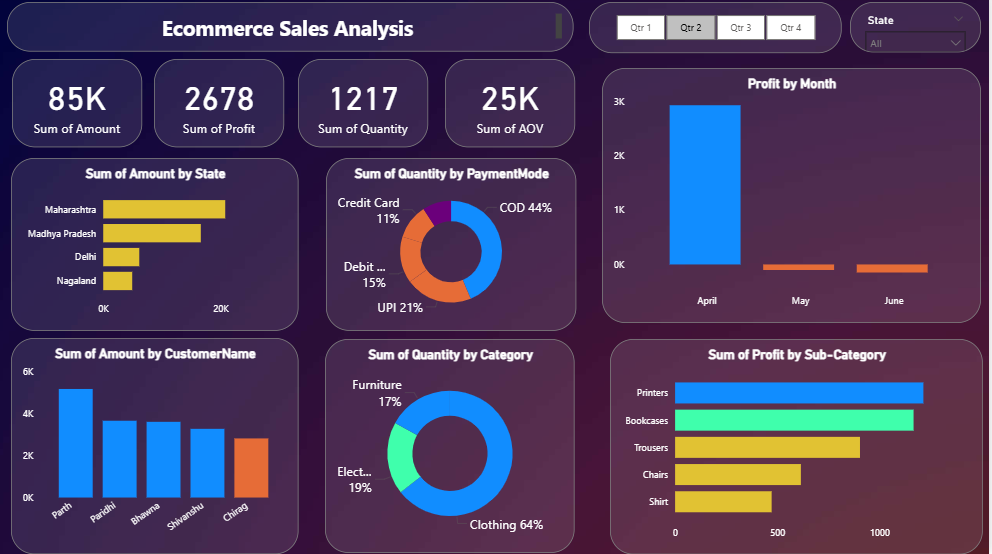

The dashboard page shown, as its layout file describes it:
{"tool":"powerbi","page":{"name":"Page 1","canvas":[1280,720],"ordinal":0},"visuals":[{"type":"textbox","box":[12.3,7.1,730.7,63.8],"z":0},{"type":"columnChart","title":"Profit by Month","fields":{"Category":["Orders.Order Date.Variation.Date Hierarchy.Month"],"Y":["Details.Profit"]},"box":[780,92.9,488.6,328.6],"z":1000},{"type":"barChart","fields":{"Category":["Details.Sub-Category"],"Y":["Details.Profit"]},"box":[790.8,442.4,481.4,277.6],"z":2000},{"type":"donutChart","fields":{"Category":["Details.Category"],"Y":["Details.Quantity"]},"box":[423.6,442.4,322.4,276.1],"z":3000},{"type":"donutChart","fields":{"Y":["Details.Quantity"],"Category":["Details.PaymentMode"]},"box":[424.3,208.6,322.9,222.9],"z":4000},{"type":"card","fields":{"Values":["Details.Amount"]},"box":[18.8,80.9,167.7,114.2],"z":5000},{"type":"card","fields":{"Values":["Details.Profit"]},"box":[202.4,80.9,167.7,114.2],"z":6000},{"type":"card","fields":{"Values":["Details.Quantity"]},"box":[388.9,80.9,167.7,114.2],"z":7000},{"type":"card","fields":{"Values":["Details.AOV"]},"box":[578.3,81,167.7,114.2],"z":8000},{"type":"barChart","fields":{"Category":["Orders.State"],"Y":["Details.Amount"]},"box":[18.6,208.6,371.4,222.9],"z":9000},{"type":"columnChart","fields":{"Category":["Orders.CustomerName"],"Y":["Details.Amount"]},"box":[18.5,441.8,371.2,278.8],"z":10000},{"type":"slicer","fields":{"Values":["Orders.Order Date.Variation.Date Hierarchy.Quarter"]},"box":[764.3,7.1,325.7,65.7],"z":11000},{"type":"slicer","fields":{"Values":["Orders.State"]},"box":[1100.2,7.1,169.2,65.4],"z":12000}]}

Visuals, with their boxes in screenshot pixels (x1, y1, x2, y2), scaled from the page's 1280x720 canvas onto the 992x554 screenshot:
textbox: {"x1": 10, "y1": 5, "x2": 576, "y2": 55}
"Profit by Month" columnChart: {"x1": 604, "y1": 71, "x2": 983, "y2": 324}
barChart - Details.Sub-Category x Details.Profit: {"x1": 613, "y1": 340, "x2": 986, "y2": 553}
donutChart - Details.Category x Details.Quantity: {"x1": 328, "y1": 340, "x2": 578, "y2": 553}
donutChart - Details.Quantity x Details.PaymentMode: {"x1": 329, "y1": 161, "x2": 579, "y2": 332}
card - Details.Amount: {"x1": 15, "y1": 62, "x2": 145, "y2": 150}
card - Details.Profit: {"x1": 157, "y1": 62, "x2": 287, "y2": 150}
card - Details.Quantity: {"x1": 301, "y1": 62, "x2": 431, "y2": 150}
card - Details.AOV: {"x1": 448, "y1": 62, "x2": 578, "y2": 150}
barChart - Orders.State x Details.Amount: {"x1": 14, "y1": 161, "x2": 302, "y2": 332}
columnChart - Orders.CustomerName x Details.Amount: {"x1": 14, "y1": 340, "x2": 302, "y2": 553}
slicer - Orders.Order Date.Variation.Date Hierarchy.Quarter: {"x1": 592, "y1": 5, "x2": 845, "y2": 56}
slicer - Orders.State: {"x1": 853, "y1": 5, "x2": 984, "y2": 56}
